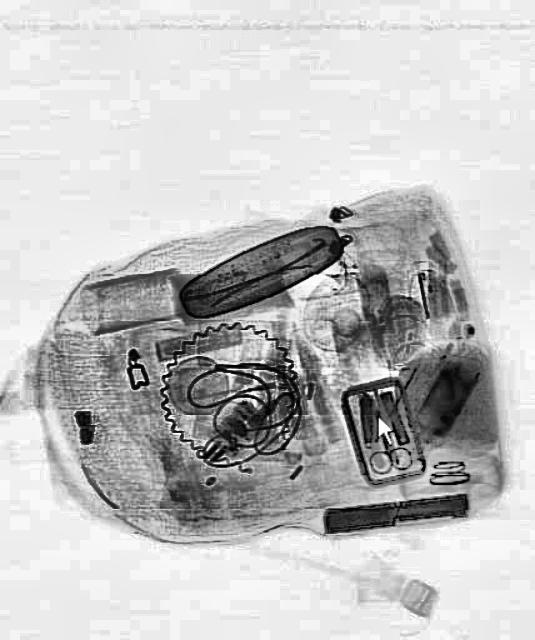Scissors: (358, 411, 412, 477)
